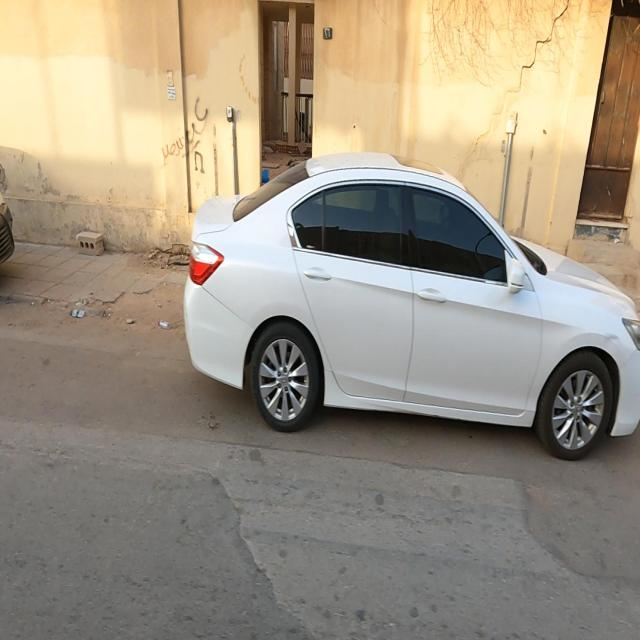Graffiti: (161, 96, 226, 198), (522, 145, 538, 232)
